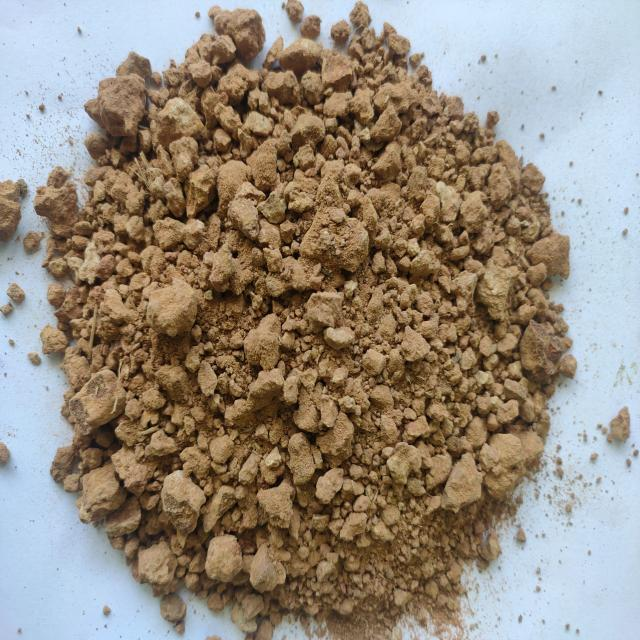soil: (113, 112, 472, 536)
